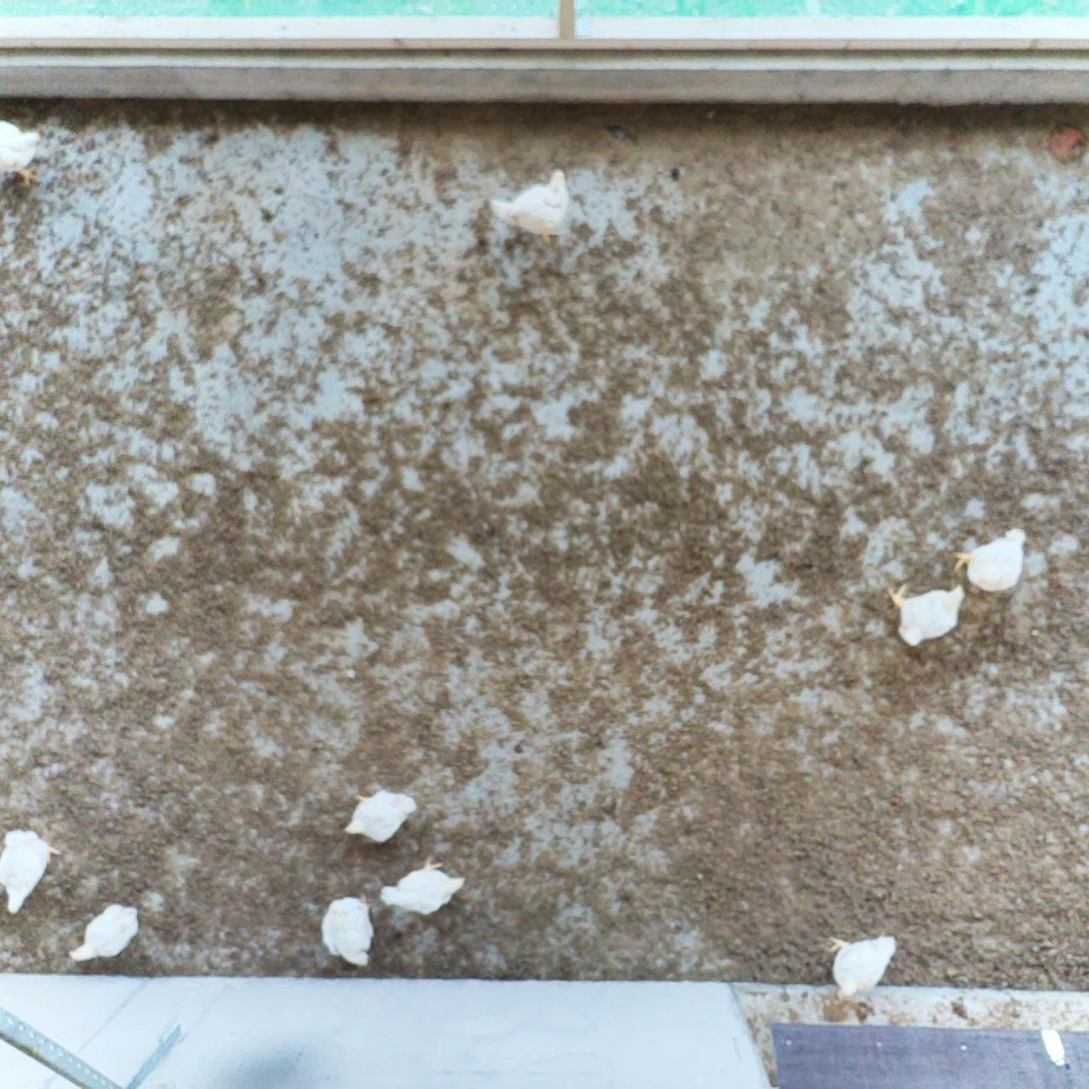chicken: (486, 164, 572, 252), (948, 526, 1027, 603), (883, 579, 968, 650), (378, 852, 469, 918), (0, 823, 62, 917), (820, 932, 900, 1003), (65, 900, 143, 965), (342, 787, 421, 847), (320, 891, 377, 971), (0, 117, 44, 189)
